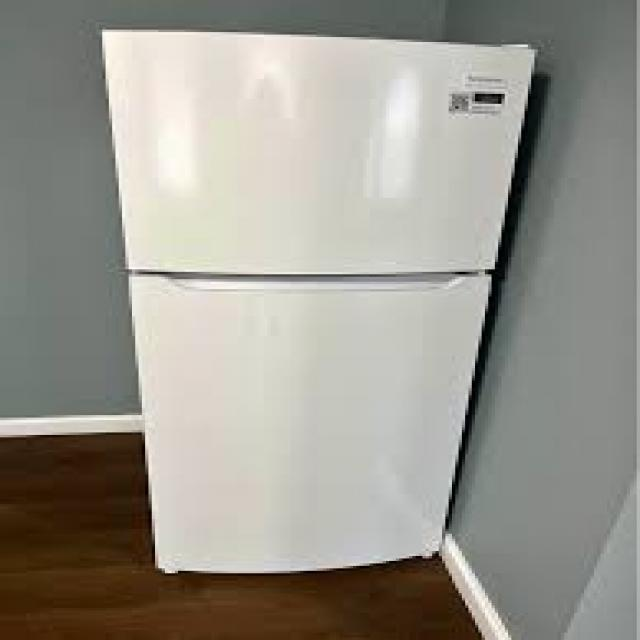refrigerator: (100, 29, 534, 562)
